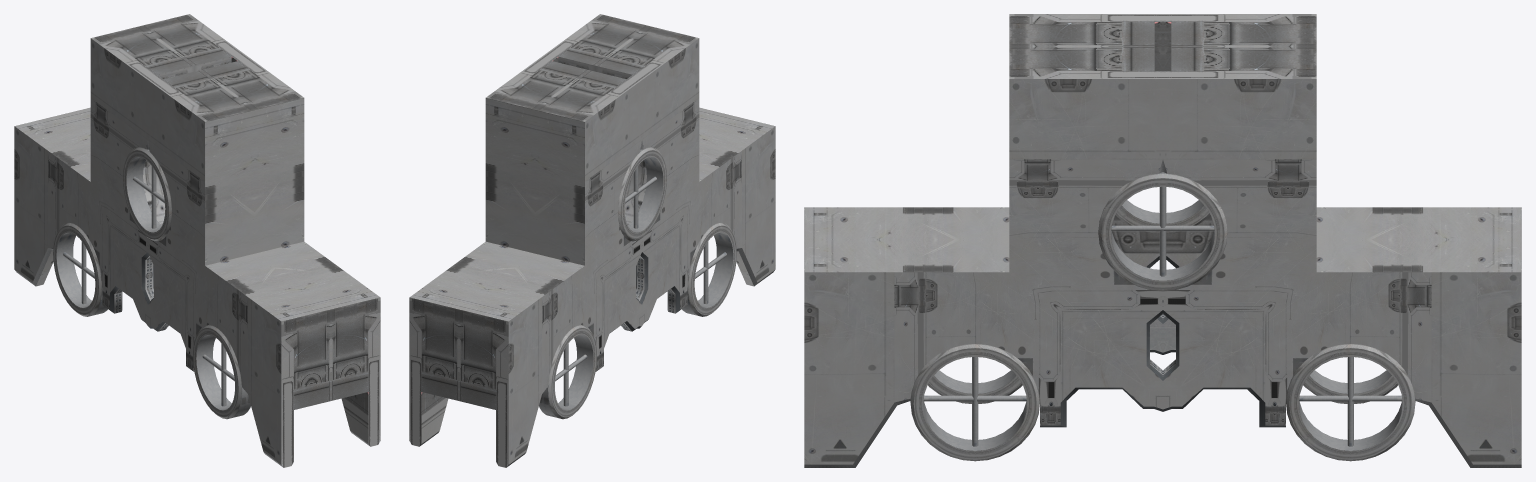
Rendered from SM_PillarCompM4.fbx.
3 renders of one model, left to right at view 1: azimuth 30°, elevation 25°; view 2: azimuth 150°, elevation 25°; view 3: azimuth 270°, elevation 25°, orthographic. The views are drawn at different scales.
Visible parts, largest first — view 1: SM_PillarCompM4_LOD0; view 2: SM_PillarCompM4_LOD0; view 3: SM_PillarCompM4_LOD0.
Part boxes in pixels (bbox=[...]): SM_PillarCompM4_LOD0: bbox=[14, 14, 380, 467]; SM_PillarCompM4_LOD0: bbox=[409, 14, 775, 467]; SM_PillarCompM4_LOD0: bbox=[804, 14, 1521, 467].
Size of the model in its own units: 125 by 560 by 336.
3 materials, 3 textured.
